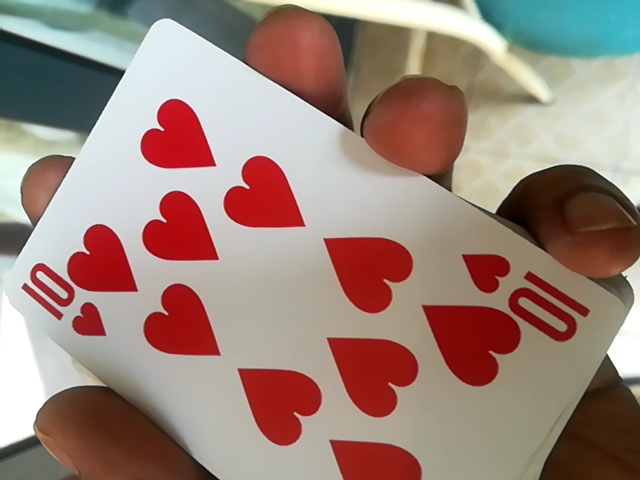hx 10: (13, 17, 605, 480)
